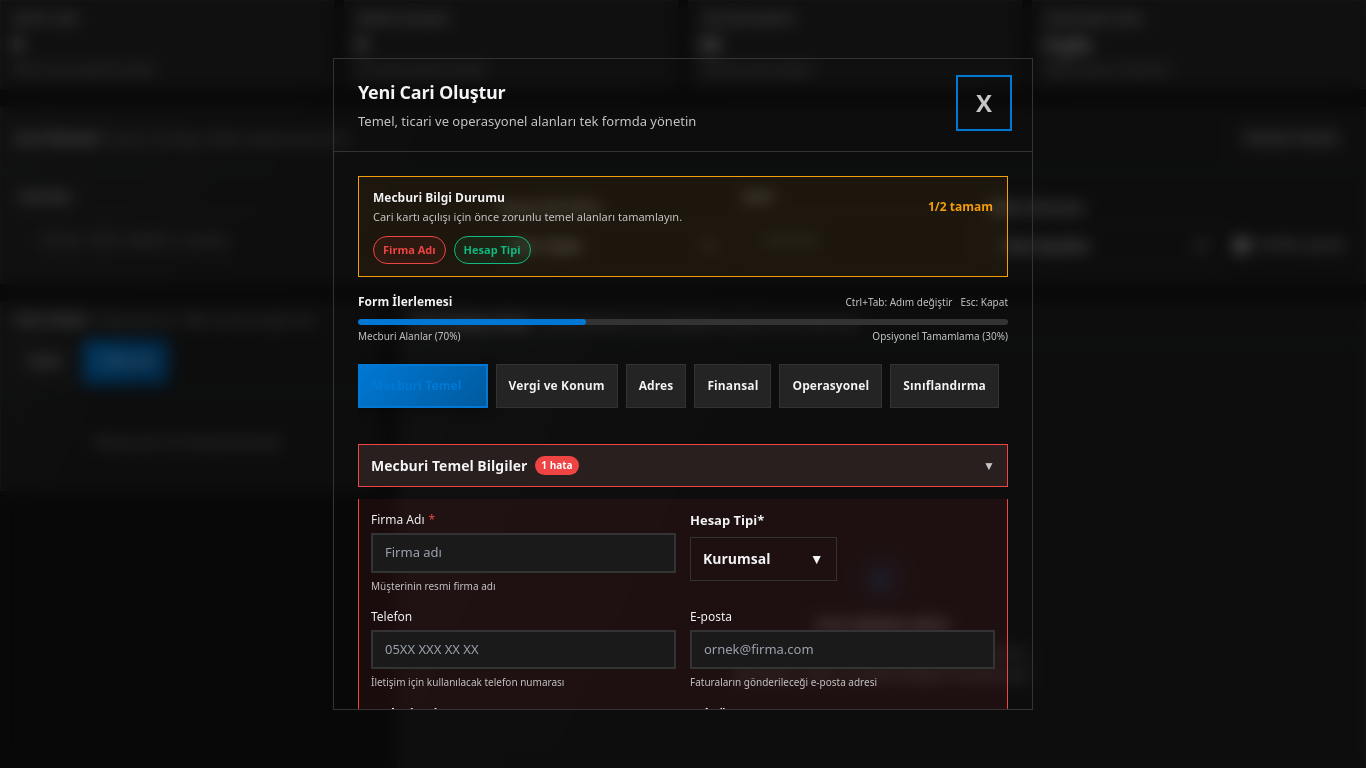
AccountsWorkspace › yeni cari modalinda mecburi bilgi ozeti ile submit kilidini gosterir
Expected: the text "Mecburi Bilgi Durumu" is shown, 373,189 -> 505,206
Type "Acme Mobilya" into the field labelled "Firma Adı *" at coordinates (524, 553), box 371,533 -> 676,573
(page scrolled)
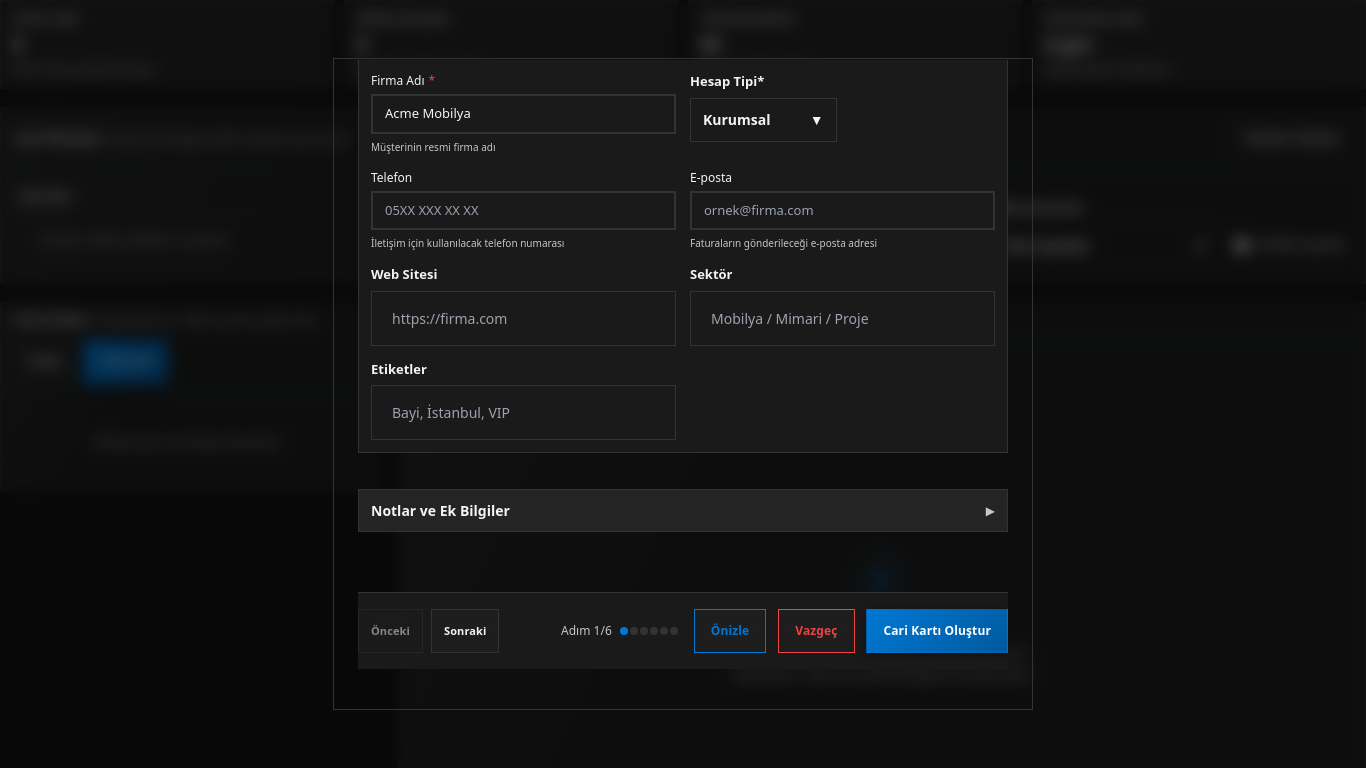
Expected: the button "Cari Kartı Oluştur" is enabled, 866,609 -> 1008,653
